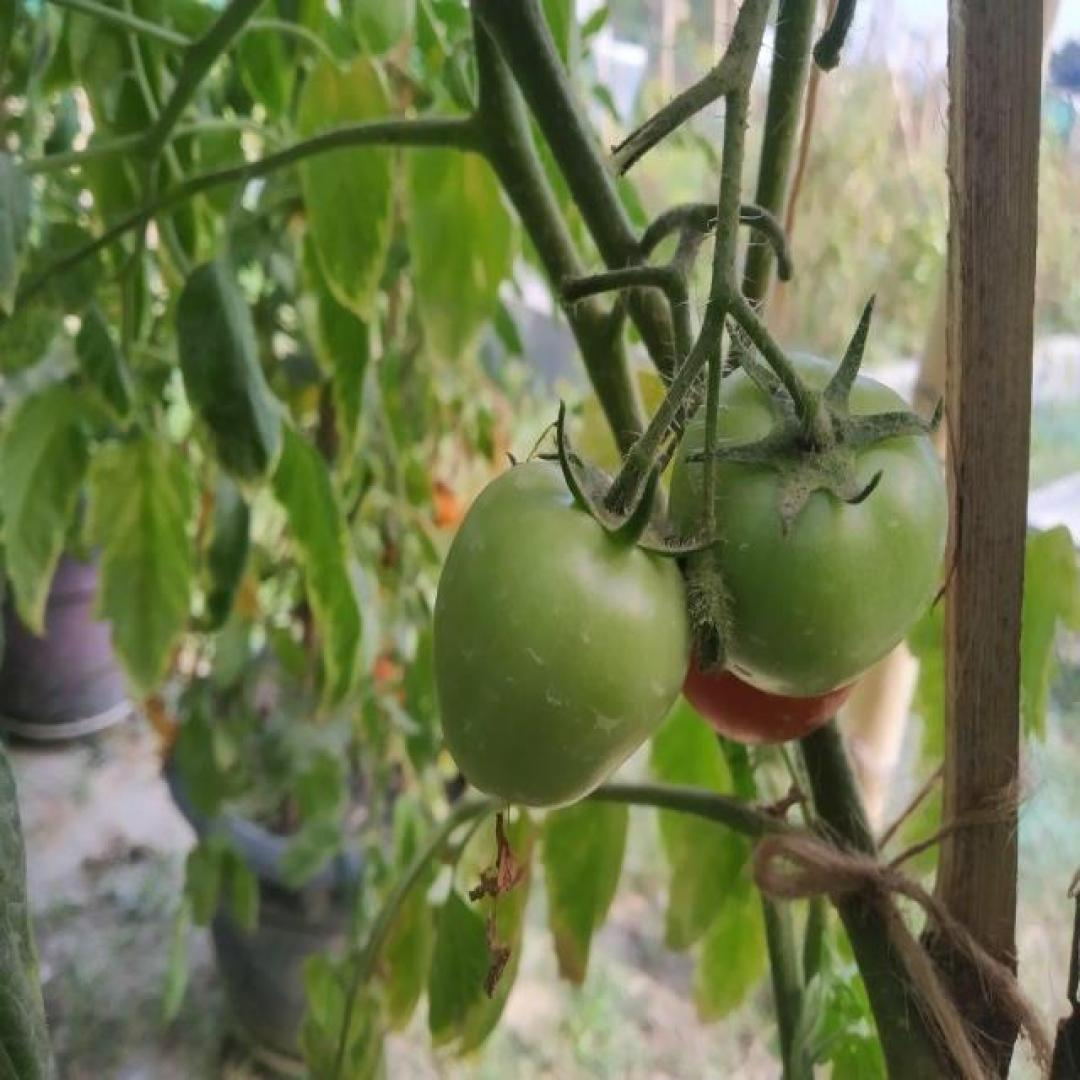mentah: (663, 348, 950, 702), (431, 456, 694, 808)
